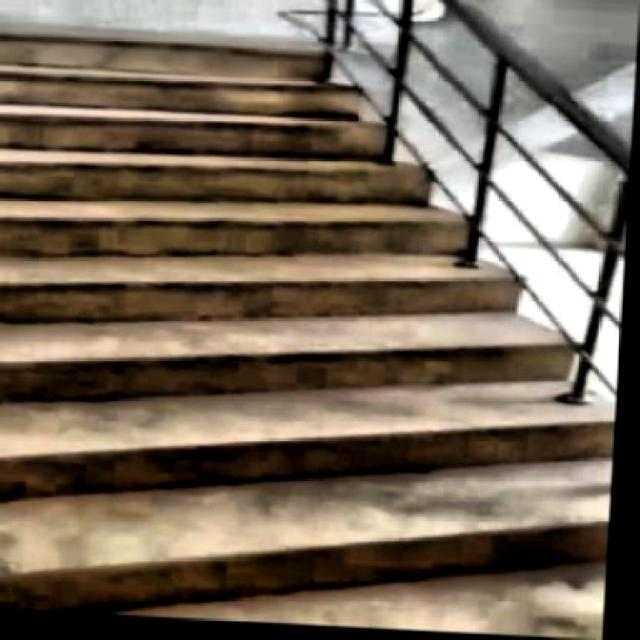stair: (2, 34, 636, 638)
